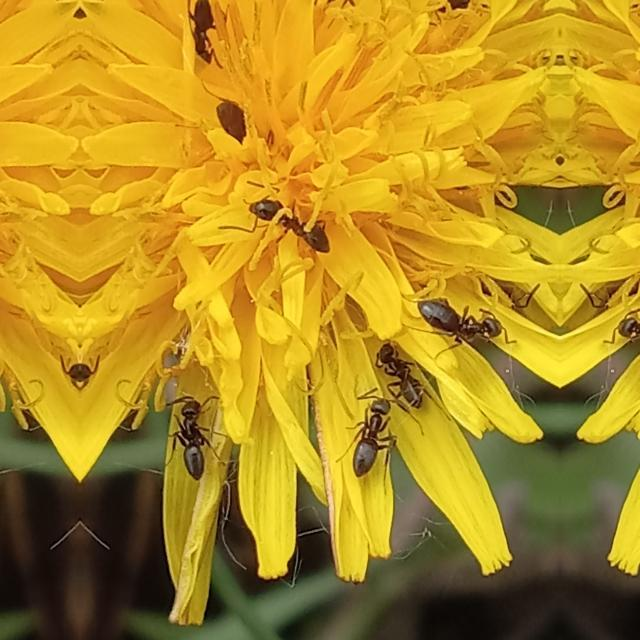Tapinoma: (238, 174, 344, 278), (410, 278, 512, 358), (338, 382, 402, 486), (164, 380, 222, 486), (370, 327, 434, 417), (168, 0, 236, 76), (606, 278, 640, 358), (80, 352, 102, 398), (58, 352, 80, 398)
